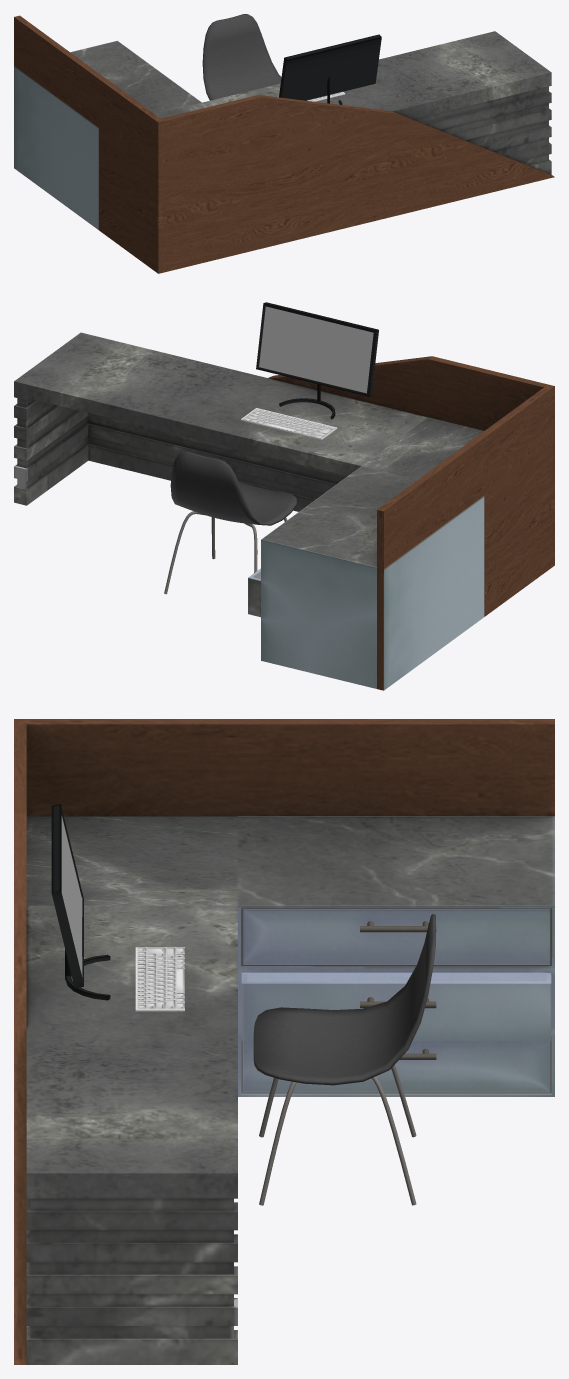
File: TableSet.fbx
The picture shows the model from 3 angles, top to bottom: view 1: azimuth 30°, elevation 25°; view 2: azimuth 150°, elevation 25°; view 3: azimuth 270°, elevation 25°; orthographic projection. The views are drawn at different scales.
Visible parts, largest first — view 1: Reception Desk, Reception chair, Cylinder.005; view 2: Reception Desk, Cylinder.005, Reception chair, Cube.006; view 3: Reception Desk, Reception chair, Cylinder.005, Cube.006.
Part boxes in pixels (x1,y1,x2,y2): Reception Desk: (14, 15, 554, 273); Reception chair: (202, 14, 281, 100); Cylinder.005: (279, 34, 381, 104); Reception Desk: (14, 332, 554, 690); Cylinder.005: (256, 302, 378, 419); Reception chair: (164, 451, 296, 594); Cube.006: (240, 408, 337, 439); Reception Desk: (14, 719, 554, 1364); Reception chair: (253, 914, 435, 1205); Cylinder.005: (51, 804, 110, 1000); Cube.006: (135, 947, 184, 1011).
Bounding box in the file's own units: 406 × 170 × 256.
4 materials, 4 textured.
